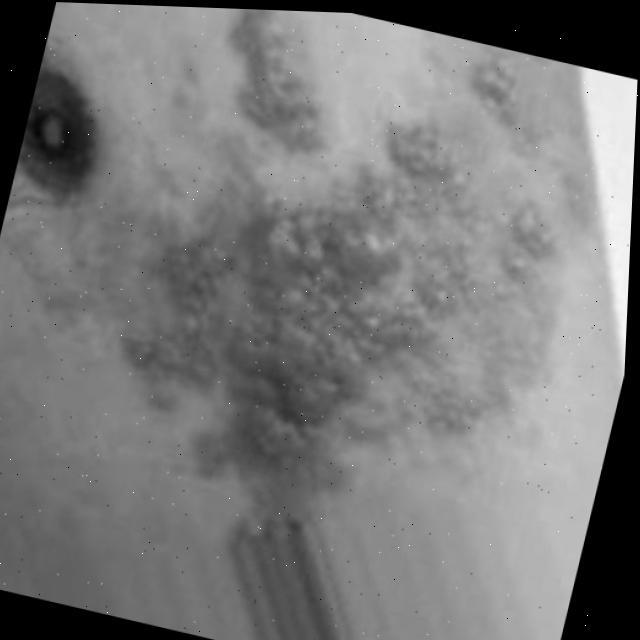Shingles: (118, 60, 579, 531), (203, 8, 349, 153), (461, 48, 534, 127)
